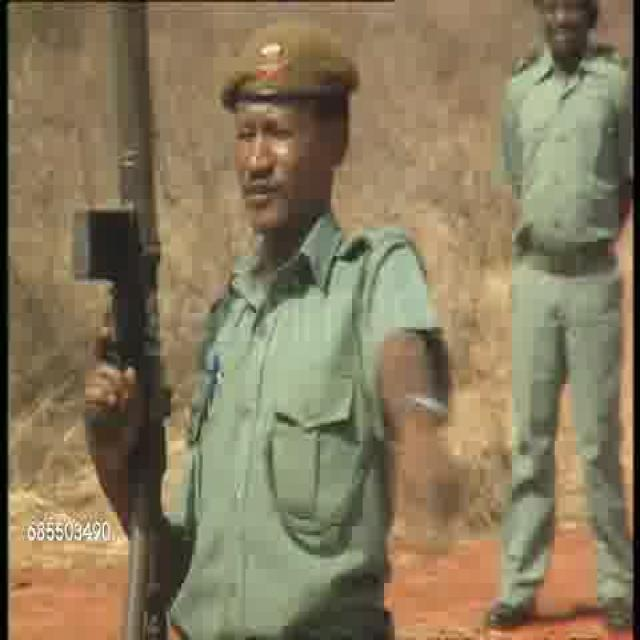poacher: (200, 32, 439, 569), (485, 2, 632, 616)
weapon: (62, 2, 178, 624)
